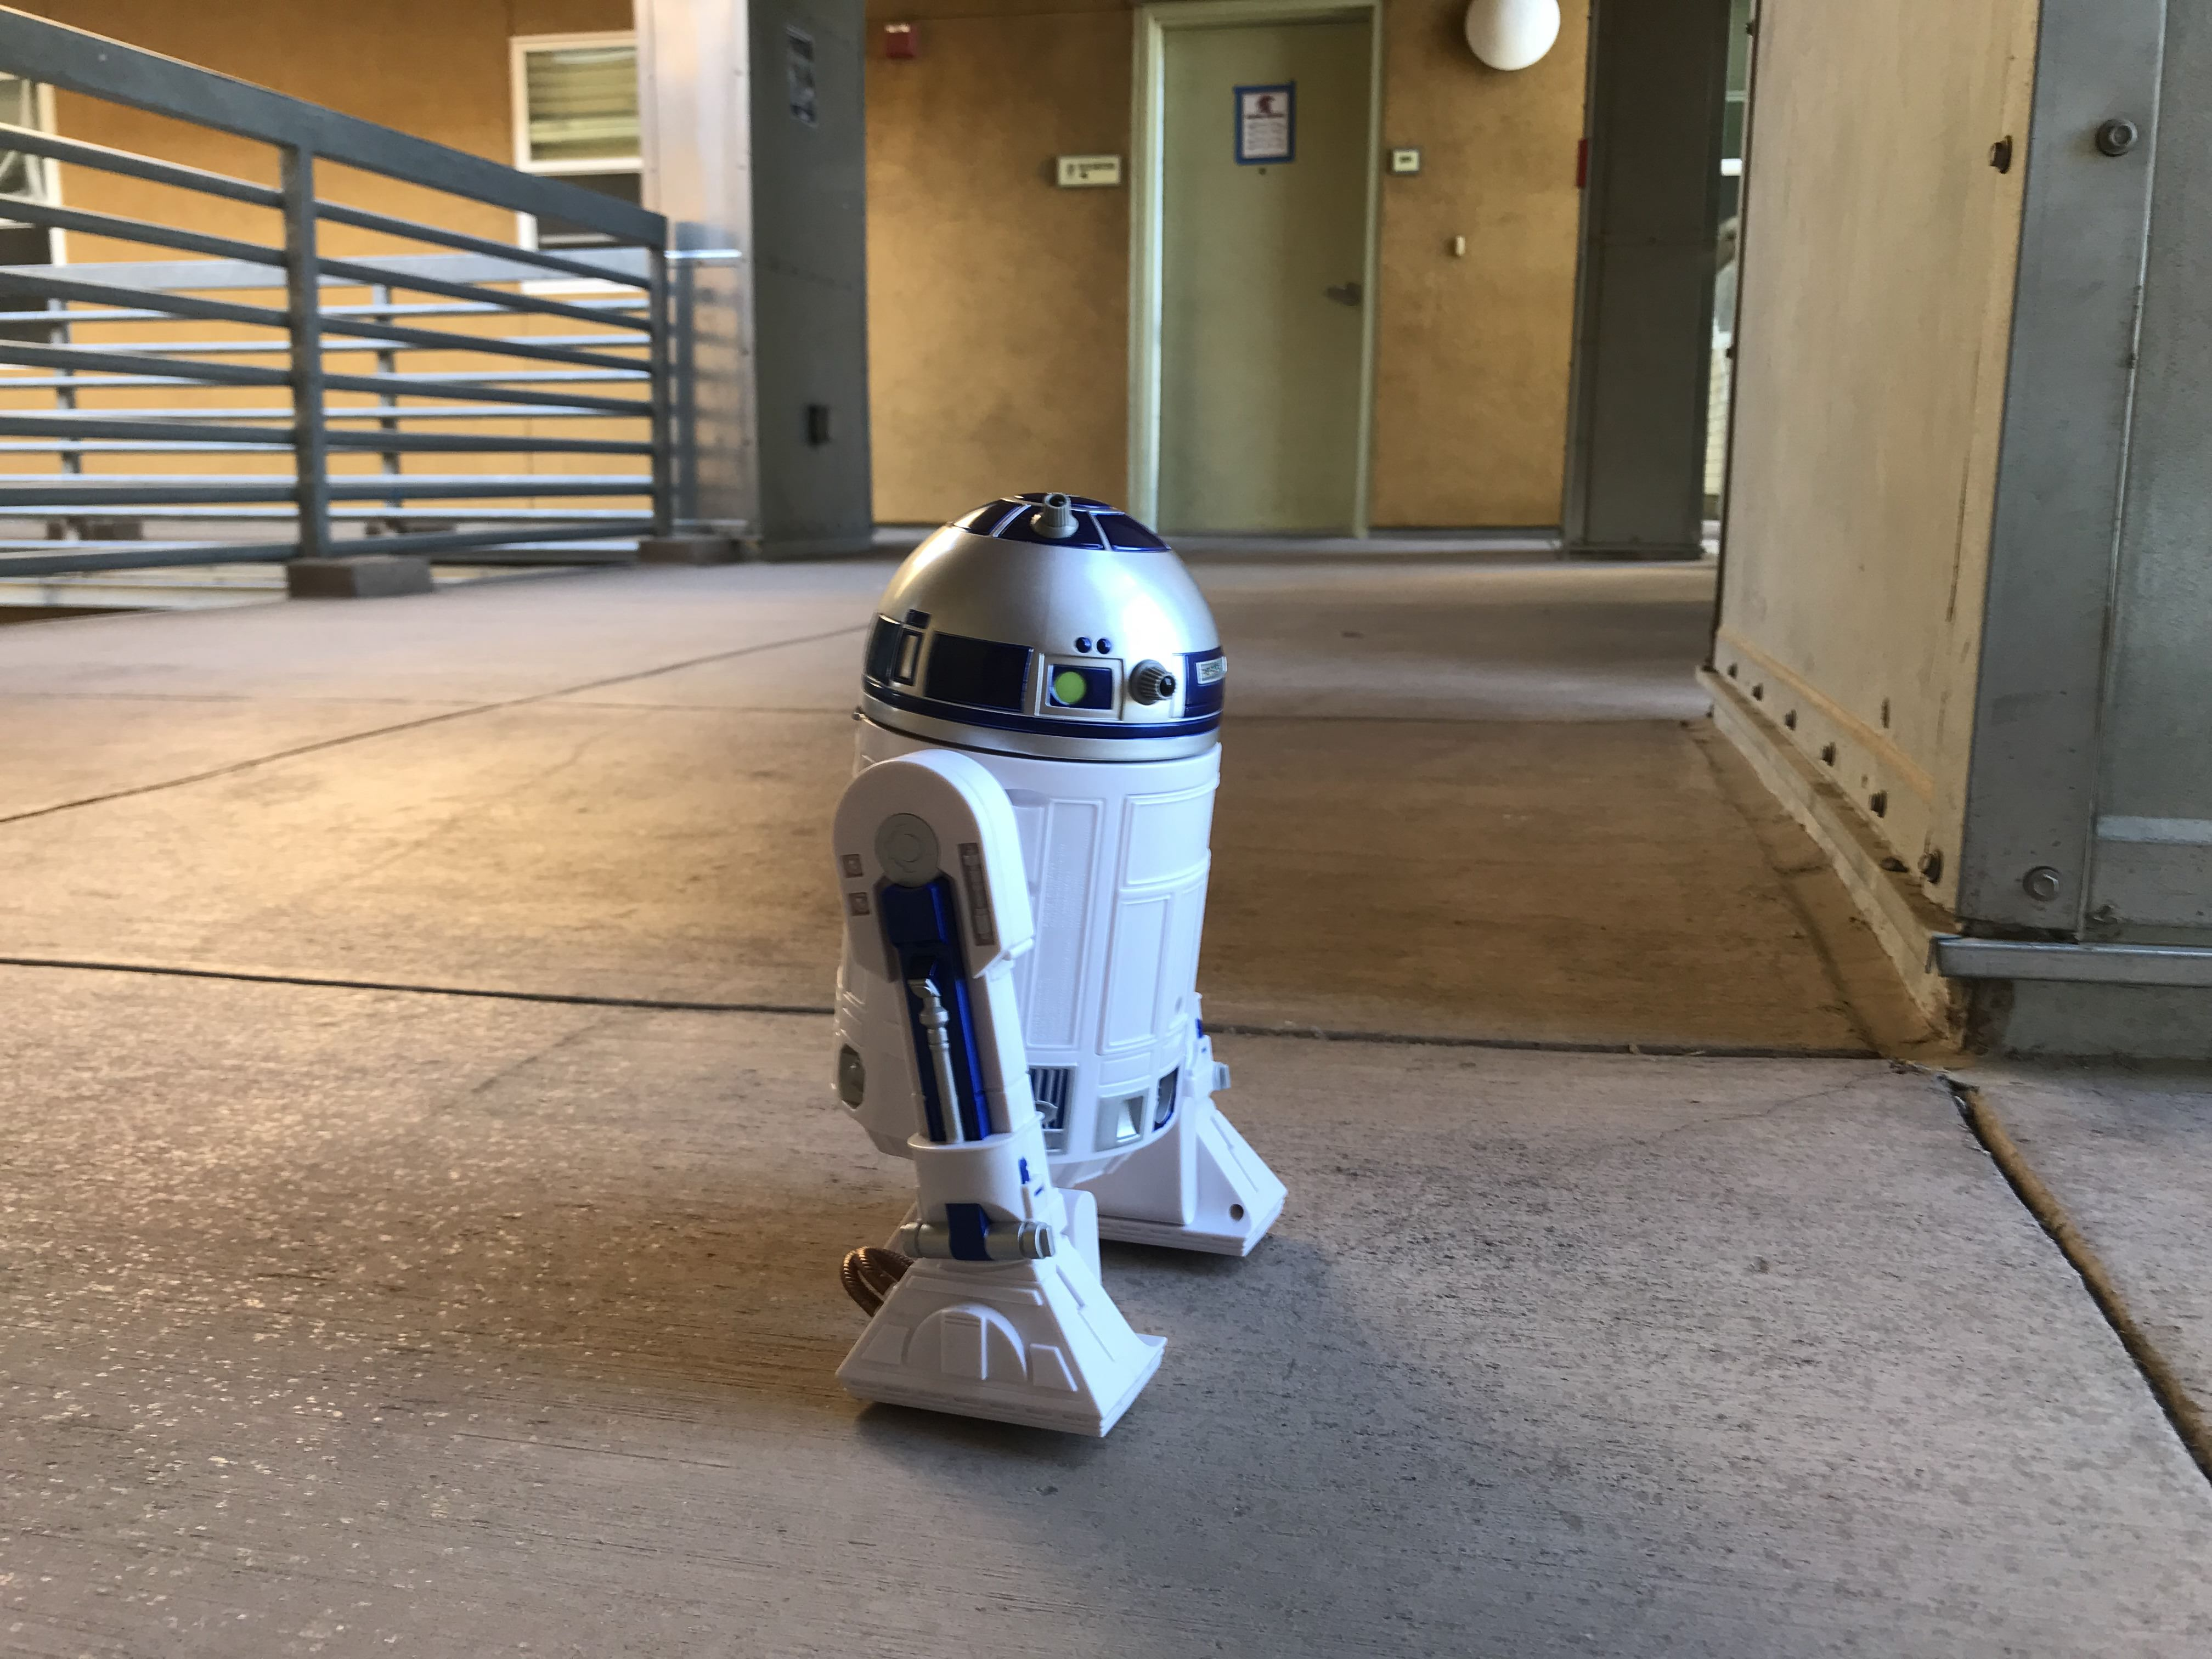r2d2: (829, 495, 1287, 1439)
